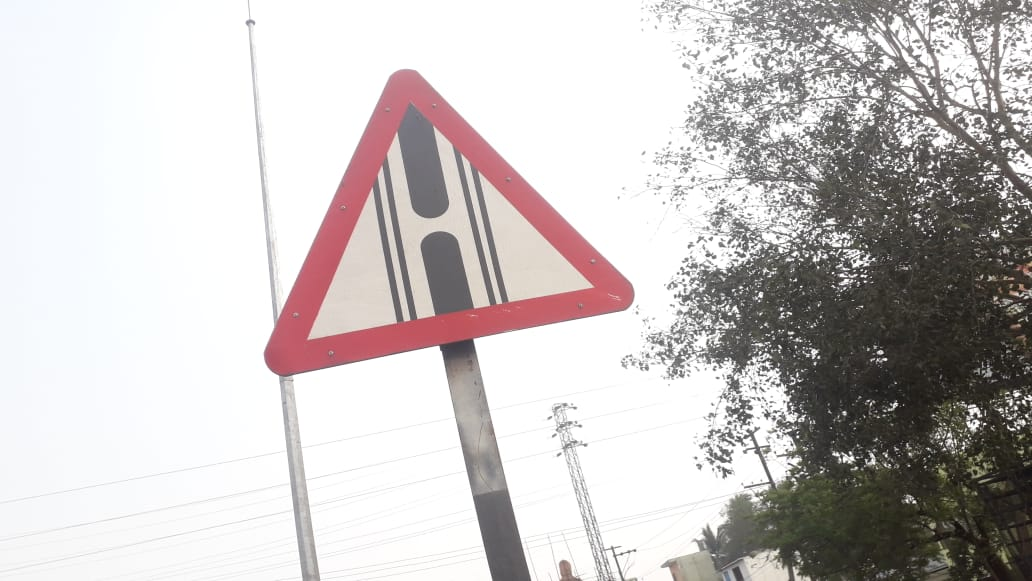highway go straight: (246, 57, 665, 381)
